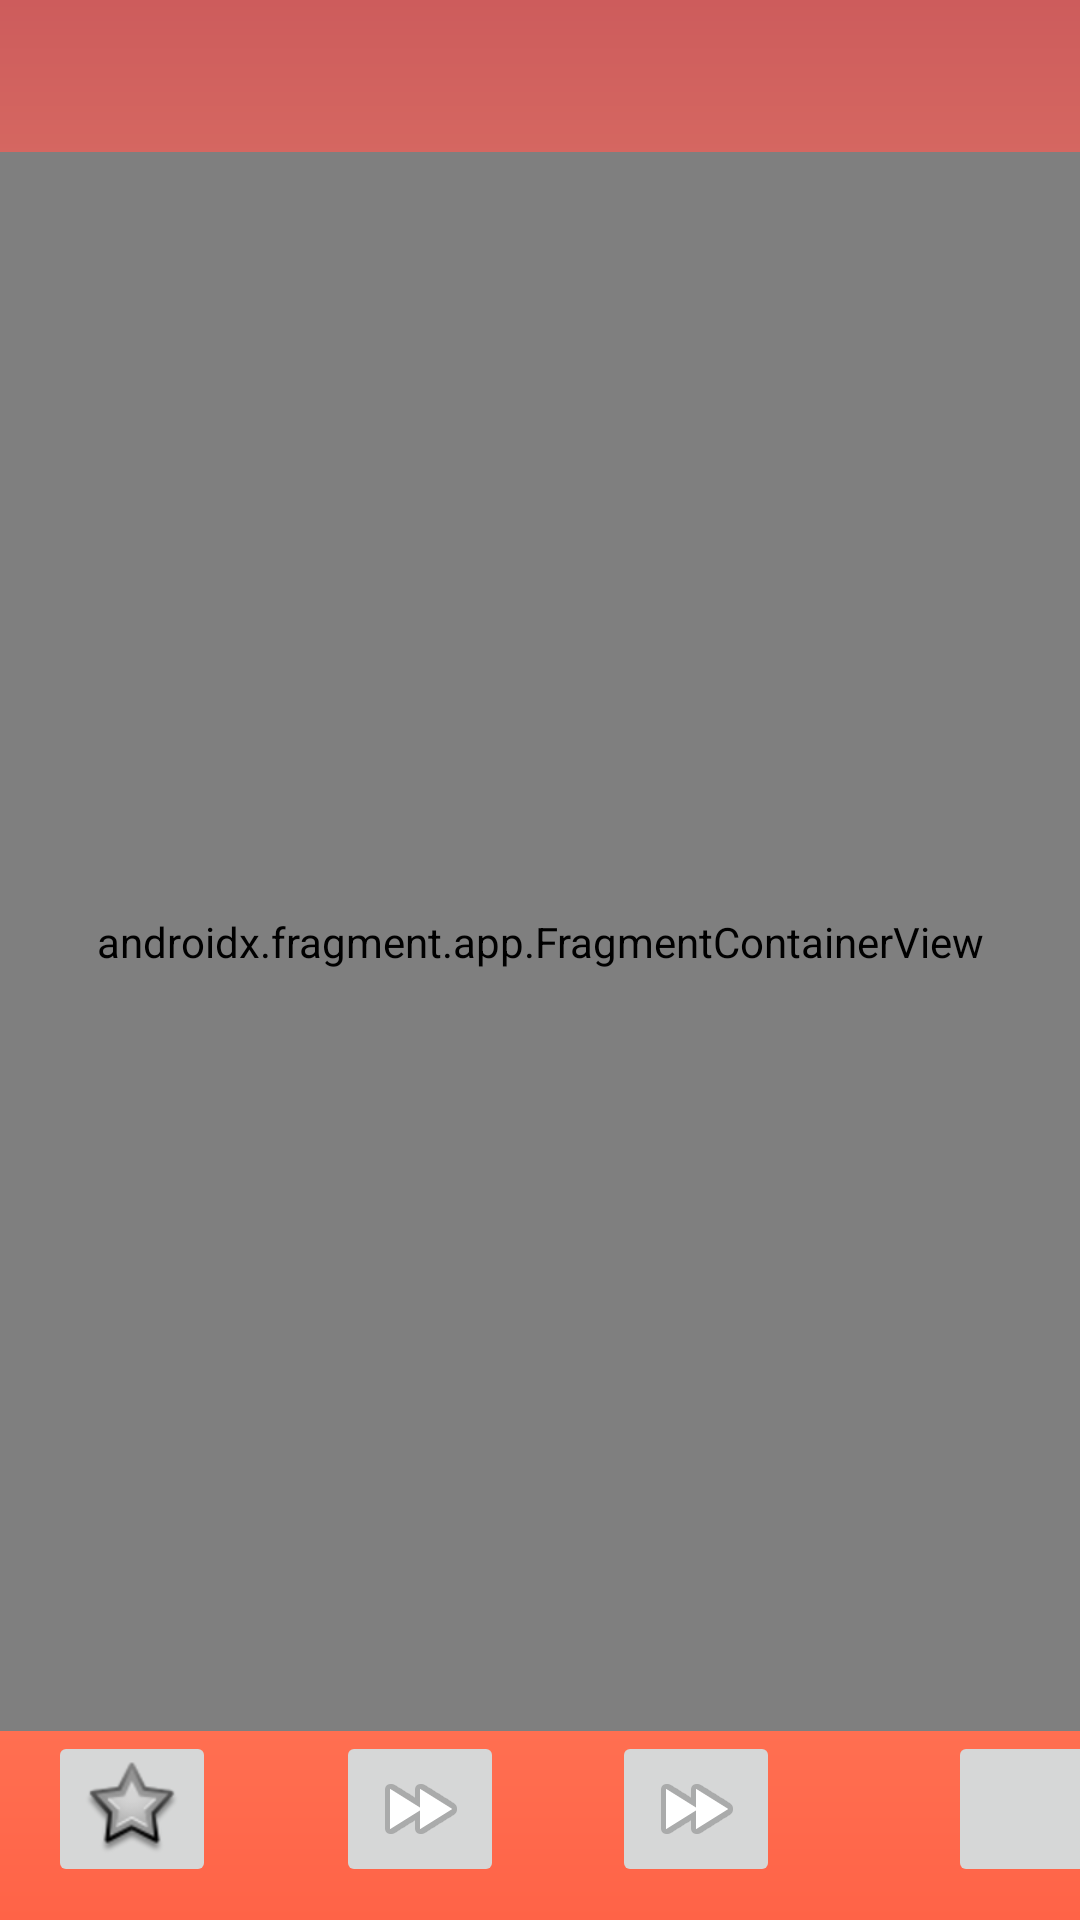

Icons on this 1080×1920 Android screen, each with its box as {"left": x1, "top": y1, "right": x2, "bottom": y2}:
star off: {"left": 60, "top": 1749, "right": 204, "bottom": 1869}
